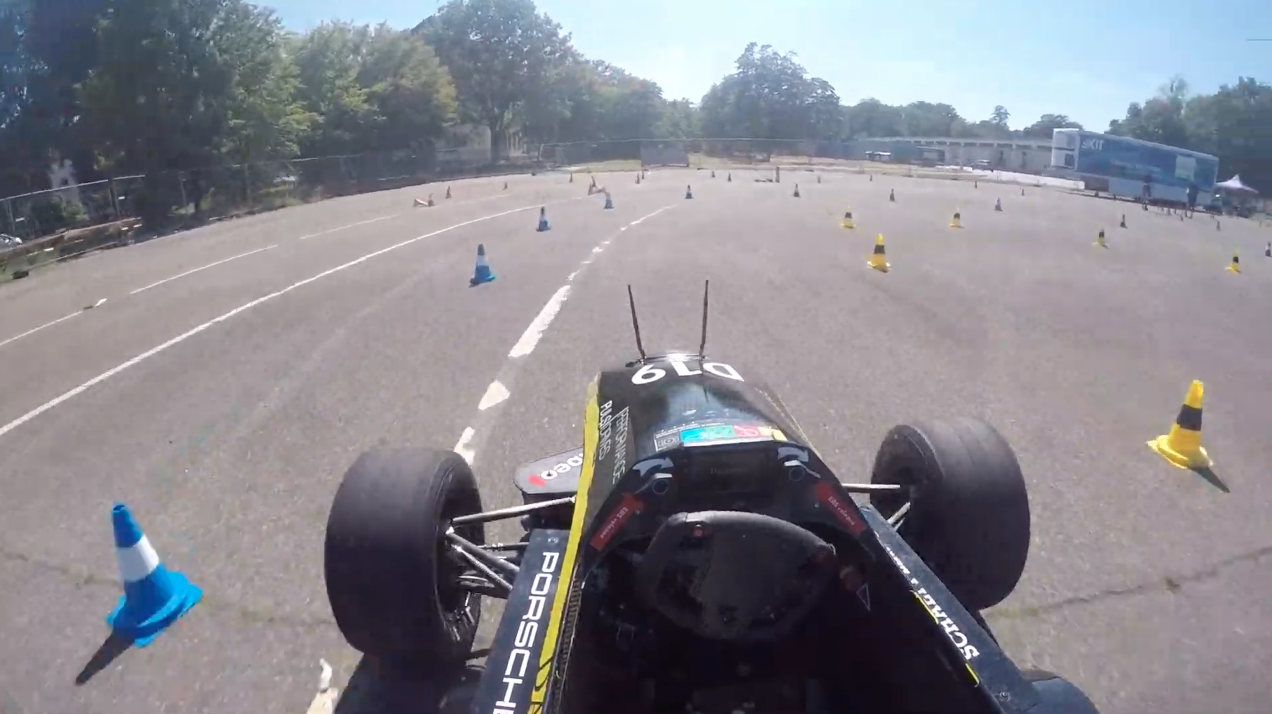lcone: (97, 499, 214, 652), (466, 240, 499, 286), (532, 203, 554, 234)
rcone: (1144, 375, 1223, 474), (864, 231, 894, 273), (838, 203, 858, 231)
